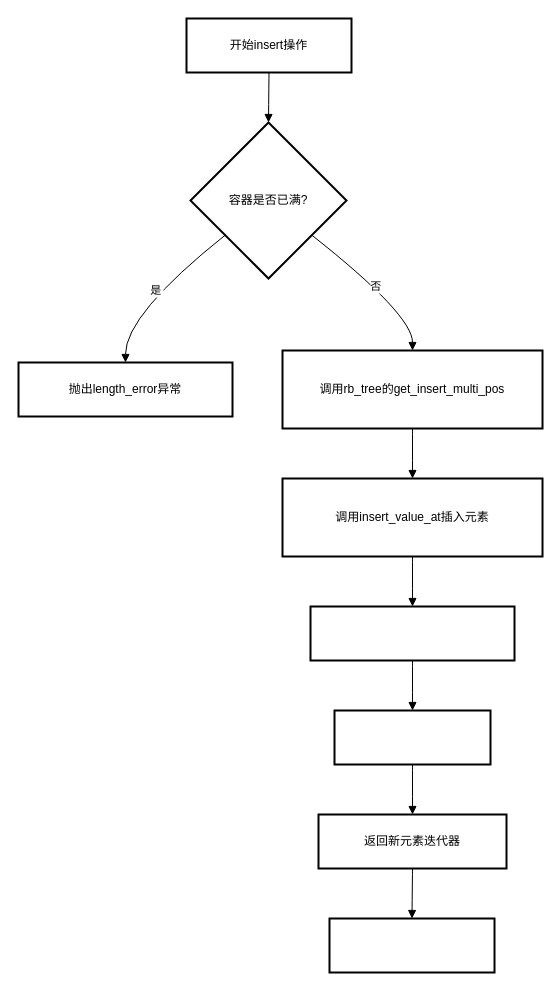
This 560x990 diagram has some shape labels left out. The shapes that lost their labels are listed below. From the top down, each one's box as (x1, y1, x2, y2) in pixels, then its label:
(309, 605, 515, 661): 进行红黑树平衡调整
(333, 709, 491, 765): 更新节点计数
(328, 917, 495, 973): 结束insert操作
